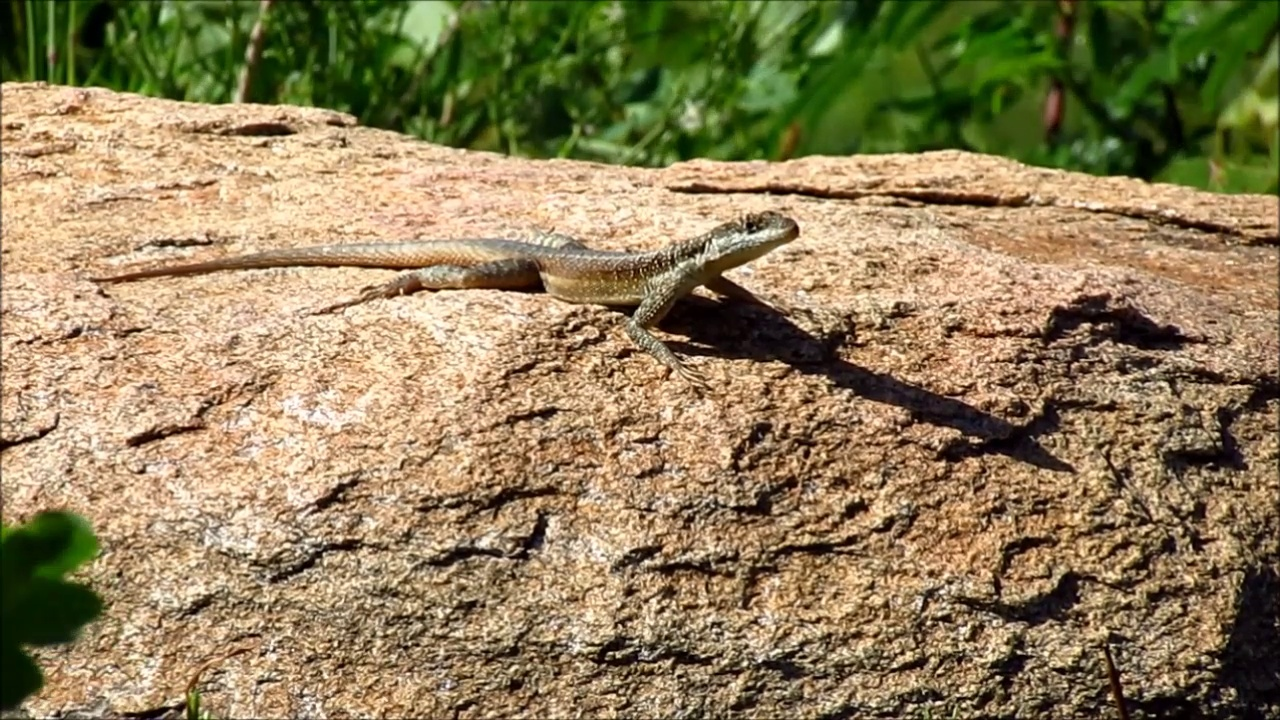body: (85, 228, 709, 395)
head: (703, 209, 800, 264)
